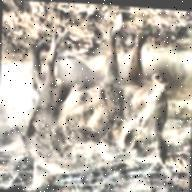boar: (14, 24, 192, 191)
